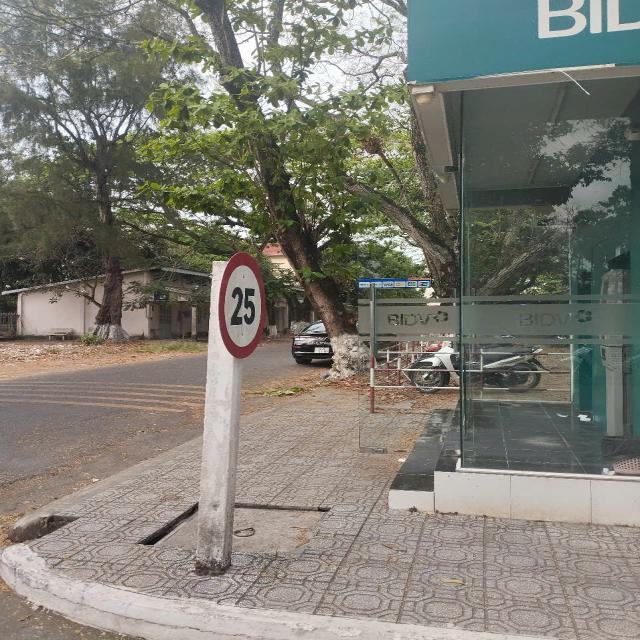Tre_Em: (219, 251, 268, 359)
